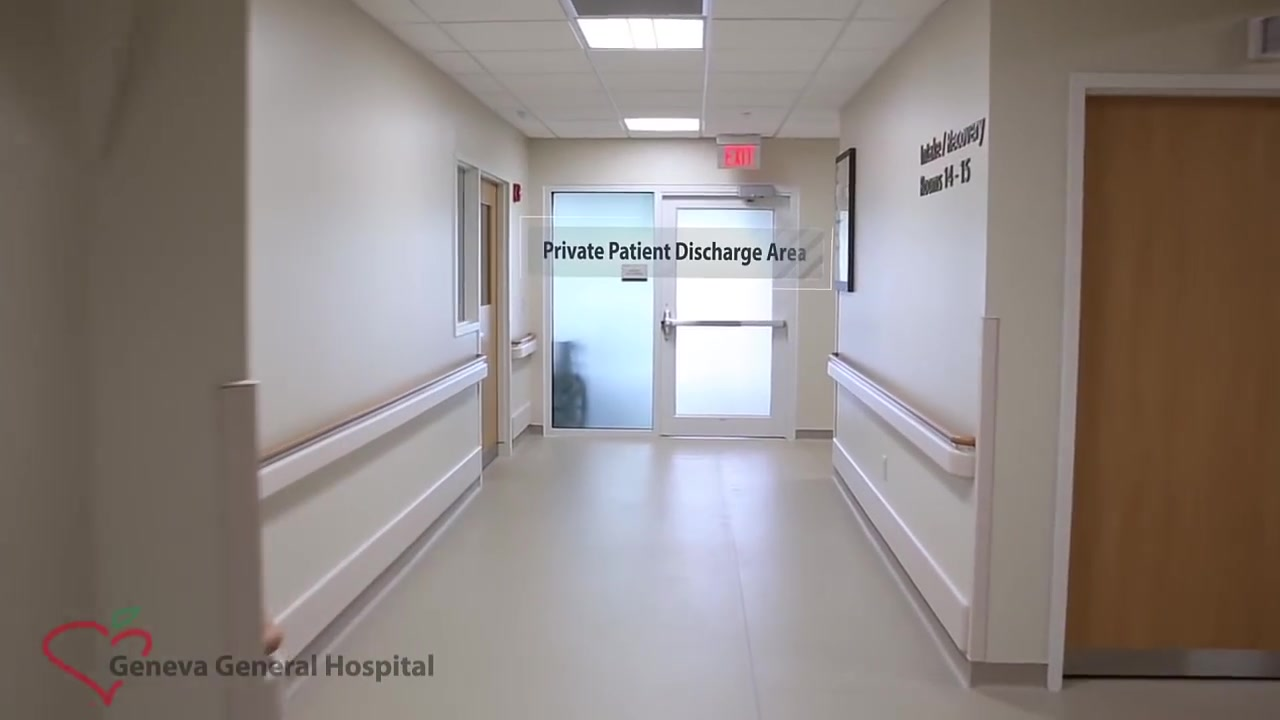hallway_assist_bar: (256, 352, 496, 535), (827, 351, 974, 476), (509, 333, 546, 359)
push_latch: (663, 312, 783, 340)
